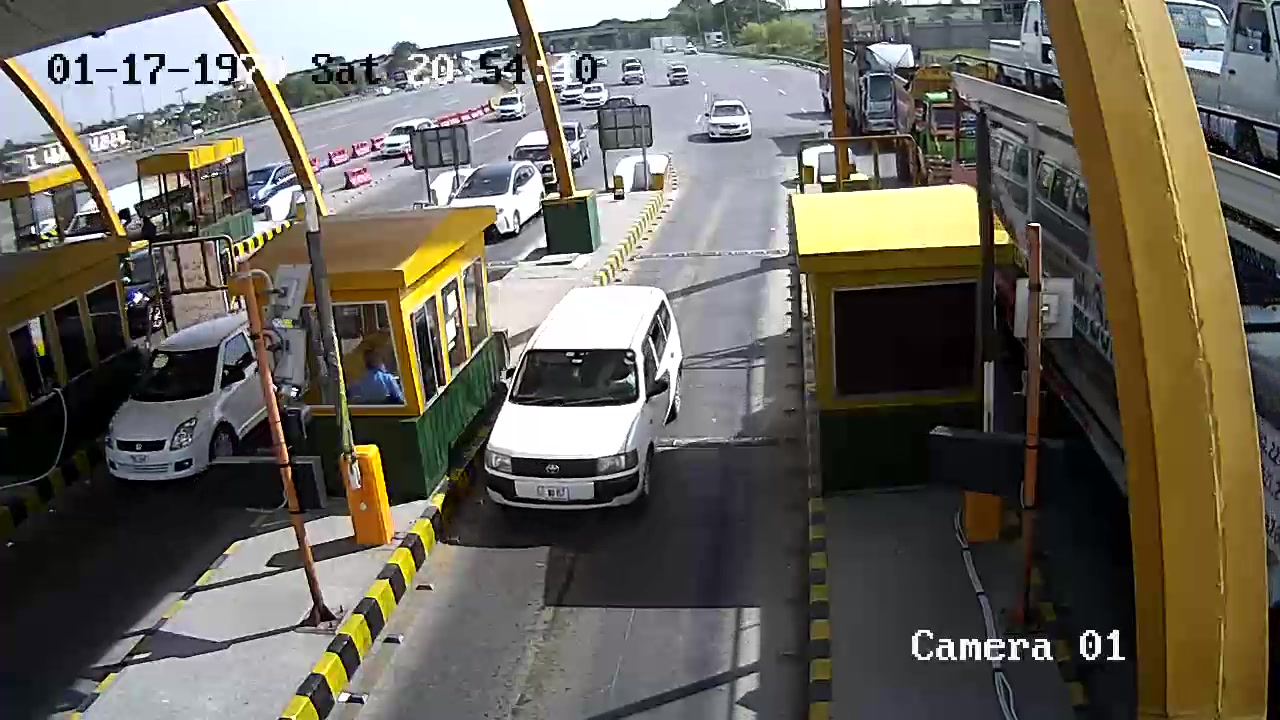F1: (472, 273, 697, 515)
